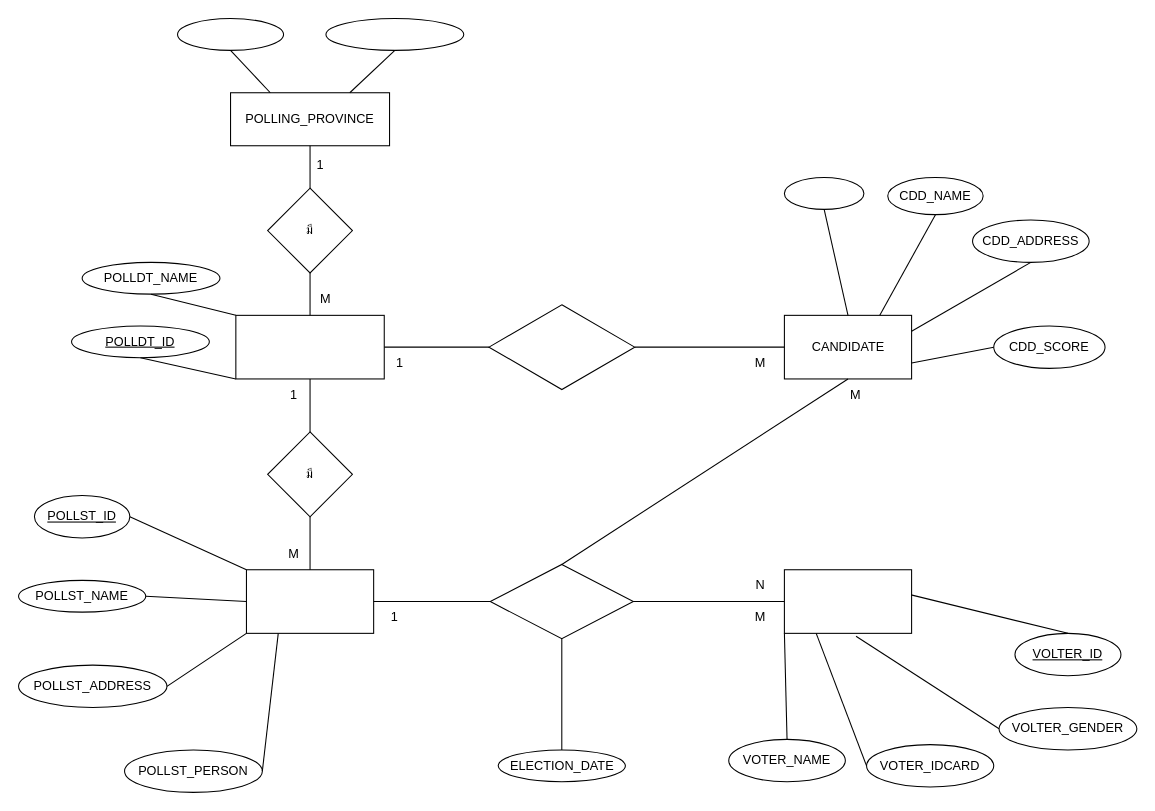
Image size: 1155x811. Some labels were removed from this diagram. The box of each missing label's shape, as (x1, y1, x2, y2) in pixels:
CDD_ID: (783, 176, 864, 209)
POLLING_DISTRICT: (235, 314, 384, 379)
POLLING_STATION: (245, 569, 374, 633)
POLLPV_ID: (176, 17, 284, 50)
POLLPV_NAME: (325, 17, 464, 50)
VOLTER: (783, 569, 912, 633)
ลงคะแนนเลือกตั้ง: (489, 563, 633, 639)
ลงสมัครเลือกตั้ง: (488, 304, 635, 390)
